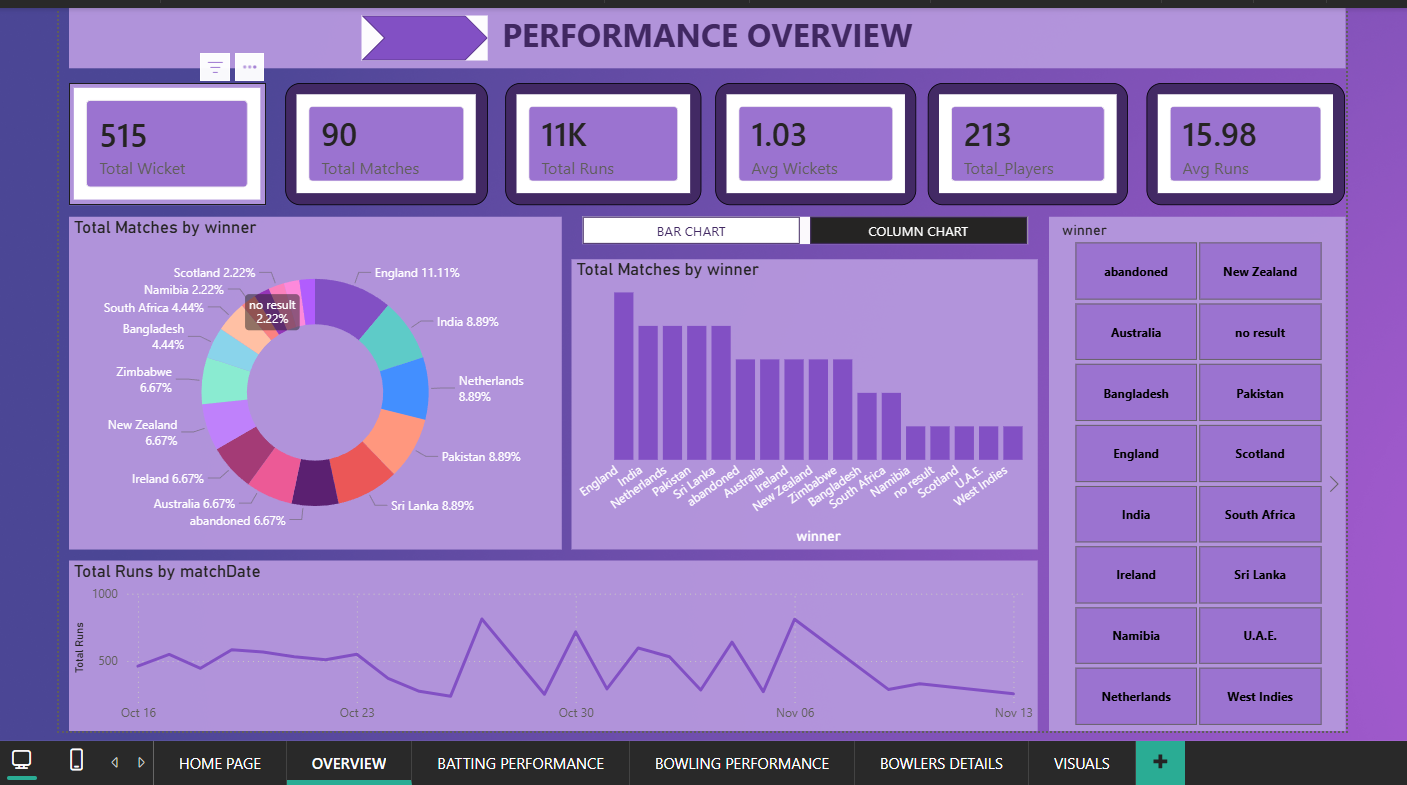

The page's visual inventory and layout, read from the dashboard file:
{"tool":"powerbi","page":{"name":"OVERVIEW ","canvas":[1280,720],"ordinal":1},"visuals":[{"type":"textbox","box":[9.6,0,1270.7,60.4],"z":0},{"type":"cardVisual","fields":{"Data":["CALCULATION.Total Wicket"]},"box":[10,74.6,195.3,121.9],"z":1000},{"type":"cardVisual","fields":{"Data":["Batting.Total Matches"]},"box":[225.2,74.6,201.5,121.9],"z":2000},{"type":"cardVisual","fields":{"Data":["Batting.Total Runs"]},"box":[444.1,74.6,195.3,121.9],"z":3000},{"type":"cardVisual","fields":{"Data":["CALCULATION.Avg Wickets"]},"box":[653.1,74.6,200.3,121.9],"z":4000},{"type":"cardVisual","fields":{"Data":["CALCULATION.Total_Players"]},"box":[864.6,74.6,199,121.9],"z":5000},{"type":"cardVisual","fields":{"Data":["CALCULATION.Avg Runs"]},"box":[1082.2,74.6,197.8,121.9],"z":6000},{"type":"donutChart","fields":{"Y":["CALCULATION.Total Matches"],"Category":["match_results$.winner"]},"box":[10,207.7,490.1,330.9],"z":7000},{"type":"slicer","fields":{"Values":["match_results$.winner"]},"box":[985.2,207.7,294.8,512.5],"z":8000},{"type":"columnChart","fields":{"Y":["CALCULATION.Total Matches"],"Category":["match_results$.winner"]},"box":[510,250,464,288.6],"z":9000},{"type":"lineChart","fields":{"Y":["CALCULATION.Total Runs"],"Category":["match_results$.matchDate"]},"box":[10,549.8,964.1,170.4],"z":10000},{"type":"shape","box":[301,7.5,125.6,44.8],"z":11000},{"type":"bookmarkNavigator","box":[521.2,207.7,442.8,27.4],"z":13000}]}

Visuals, with their boxes on the page's 1280x720 design canvas (x1, y1, x2, y2). These are canvas units, not pixel positions in the 1407x785 screenshot, which may show the page scaled, cropped or inside an application window:
textbox: {"left": 10, "top": 0, "right": 1280, "bottom": 60}
cardVisual - CALCULATION.Total Wicket: {"left": 10, "top": 75, "right": 205, "bottom": 196}
cardVisual - Batting.Total Matches: {"left": 225, "top": 75, "right": 427, "bottom": 196}
cardVisual - Batting.Total Runs: {"left": 444, "top": 75, "right": 639, "bottom": 196}
cardVisual - CALCULATION.Avg Wickets: {"left": 653, "top": 75, "right": 853, "bottom": 196}
cardVisual - CALCULATION.Total_Players: {"left": 865, "top": 75, "right": 1064, "bottom": 196}
cardVisual - CALCULATION.Avg Runs: {"left": 1082, "top": 75, "right": 1280, "bottom": 196}
donutChart - CALCULATION.Total Matches x match_results$.winner: {"left": 10, "top": 208, "right": 500, "bottom": 539}
slicer - match_results$.winner: {"left": 985, "top": 208, "right": 1280, "bottom": 720}
columnChart - CALCULATION.Total Matches x match_results$.winner: {"left": 510, "top": 250, "right": 974, "bottom": 539}
lineChart - CALCULATION.Total Runs x match_results$.matchDate: {"left": 10, "top": 550, "right": 974, "bottom": 720}
shape: {"left": 301, "top": 8, "right": 427, "bottom": 52}
bookmarkNavigator: {"left": 521, "top": 208, "right": 964, "bottom": 235}
